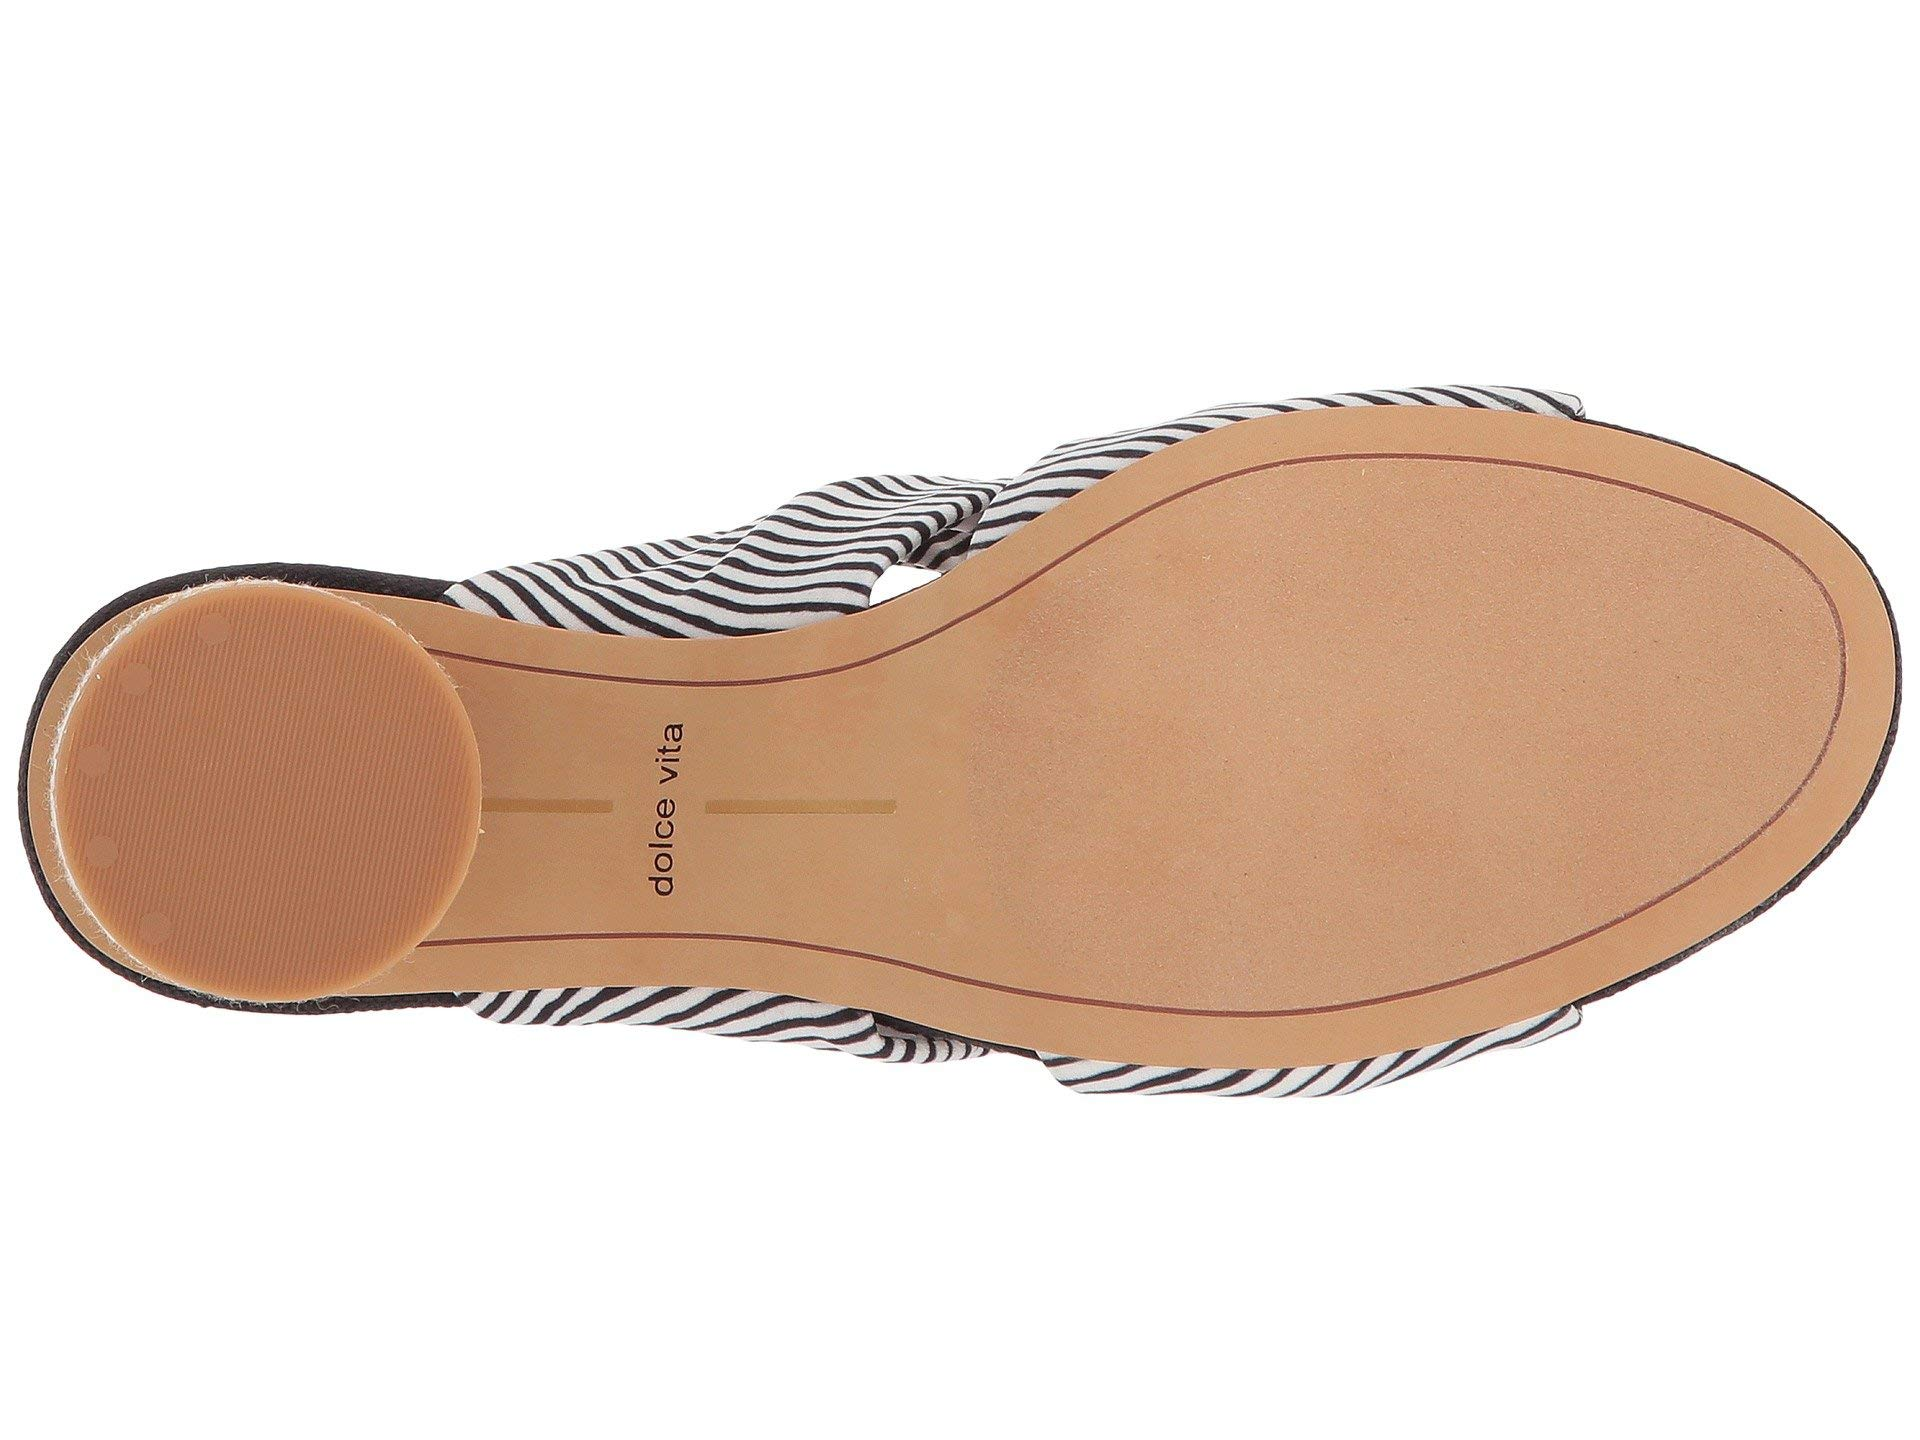line: (160, 700, 354, 902)
